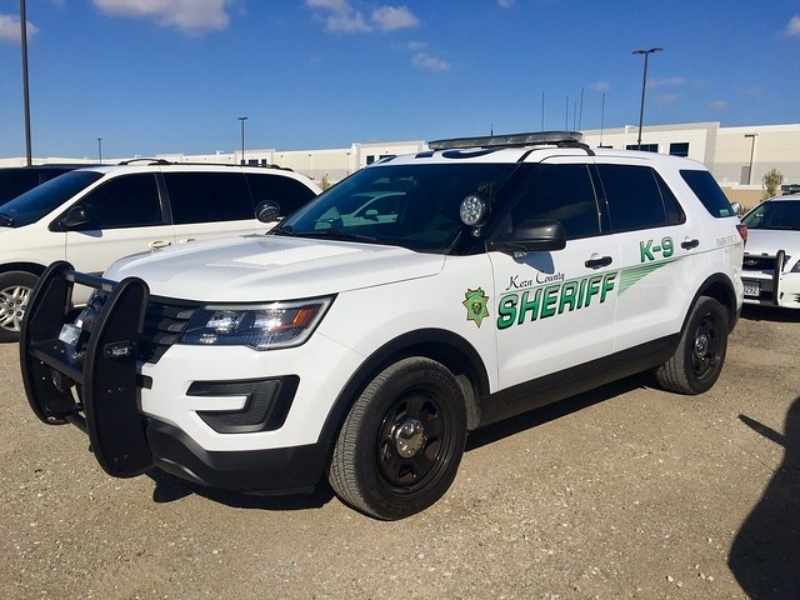policecar: (50, 116, 761, 520)
